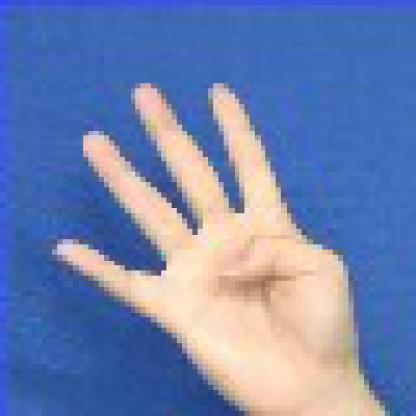four: (43, 61, 378, 390)
